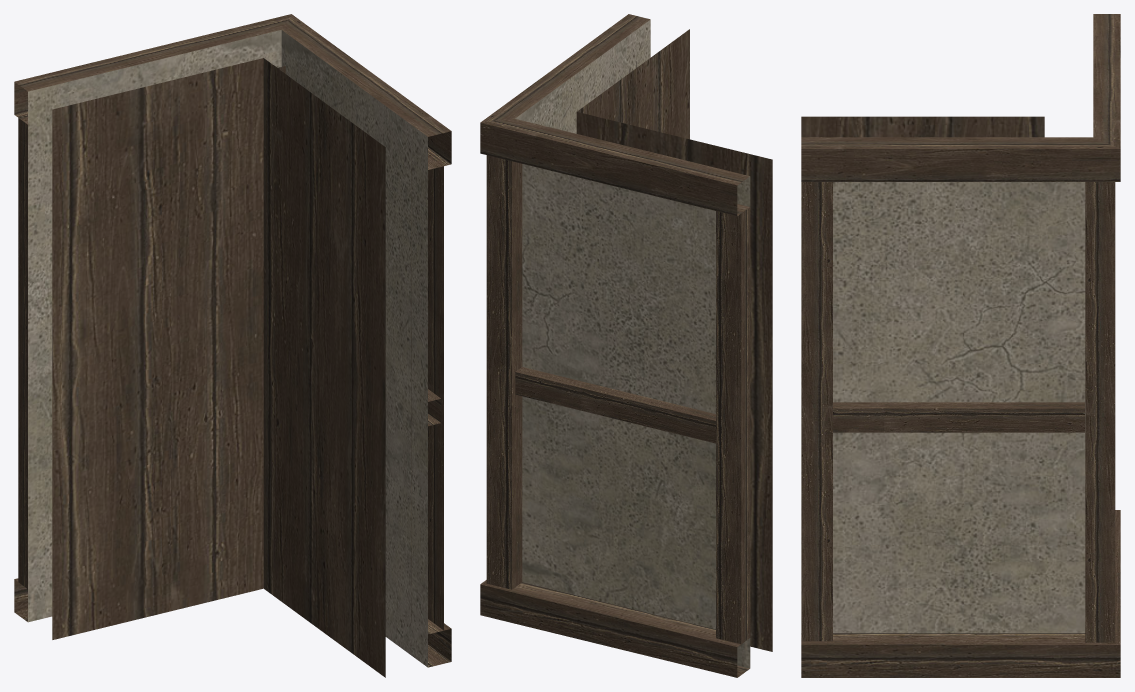
File: ARC1010251.fbx
3 renders of one model, left to right at view 1: azimuth 30°, elevation 25°; view 2: azimuth 150°, elevation 25°; view 3: azimuth 270°, elevation 25°, orthographic. The views are drawn at different scales.
Parts seen in each view (by area): view 1: smARC1010251; view 2: smARC1010251; view 3: smARC1010251.
Part boxes in pixels (x1,y1,x2,y2): smARC1010251: (14,14,451,677); smARC1010251: (480,14,772,677); smARC1010251: (801,14,1120,677).
Bounding box in the file's own units: 147 × 268 × 147.
1 material, 1 textured.
